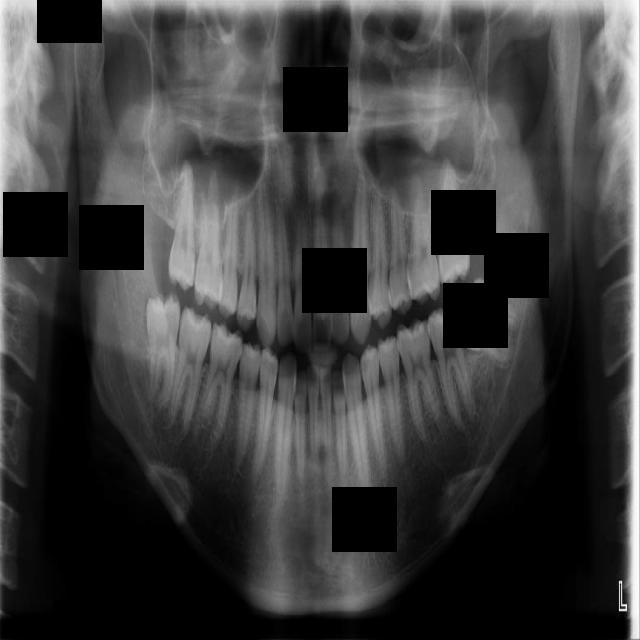73: (614, 576, 616, 582)
BioHorizons Implant: (433, 157, 471, 288)
Biomet 3i Implant: (461, 275, 521, 364)
Blue Sky Bio Implant: (424, 295, 477, 431)
Caries: (169, 157, 196, 290)
Implant: (166, 304, 215, 436)
Keystone Dental Implant: (145, 292, 184, 409)
